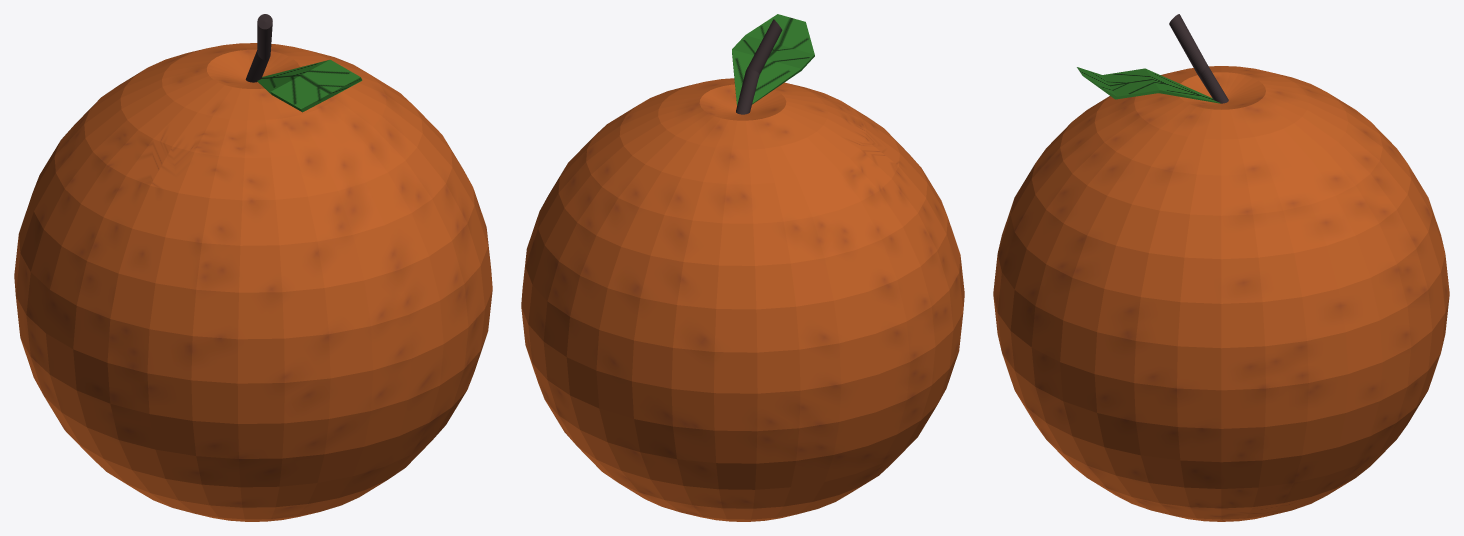
Rendered from orange.fbx.
3 views of the same model, side by side, from view 1: azimuth 30°, elevation 25°; view 2: azimuth 150°, elevation 25°; view 3: azimuth 270°, elevation 25° (orthographic). The views are drawn at different scales.
Parts seen in each view (by area): view 1: Sphere; view 2: Sphere; view 3: Sphere.
Boxes of the visible parts, x1,y1,x2,y2 form: Sphere: (14,14,492,521); Sphere: (521,14,964,521); Sphere: (993,14,1449,521).
Bounding box in the file's own units: 200 × 233 × 200.
Materials: 1 (1 with a texture image).
